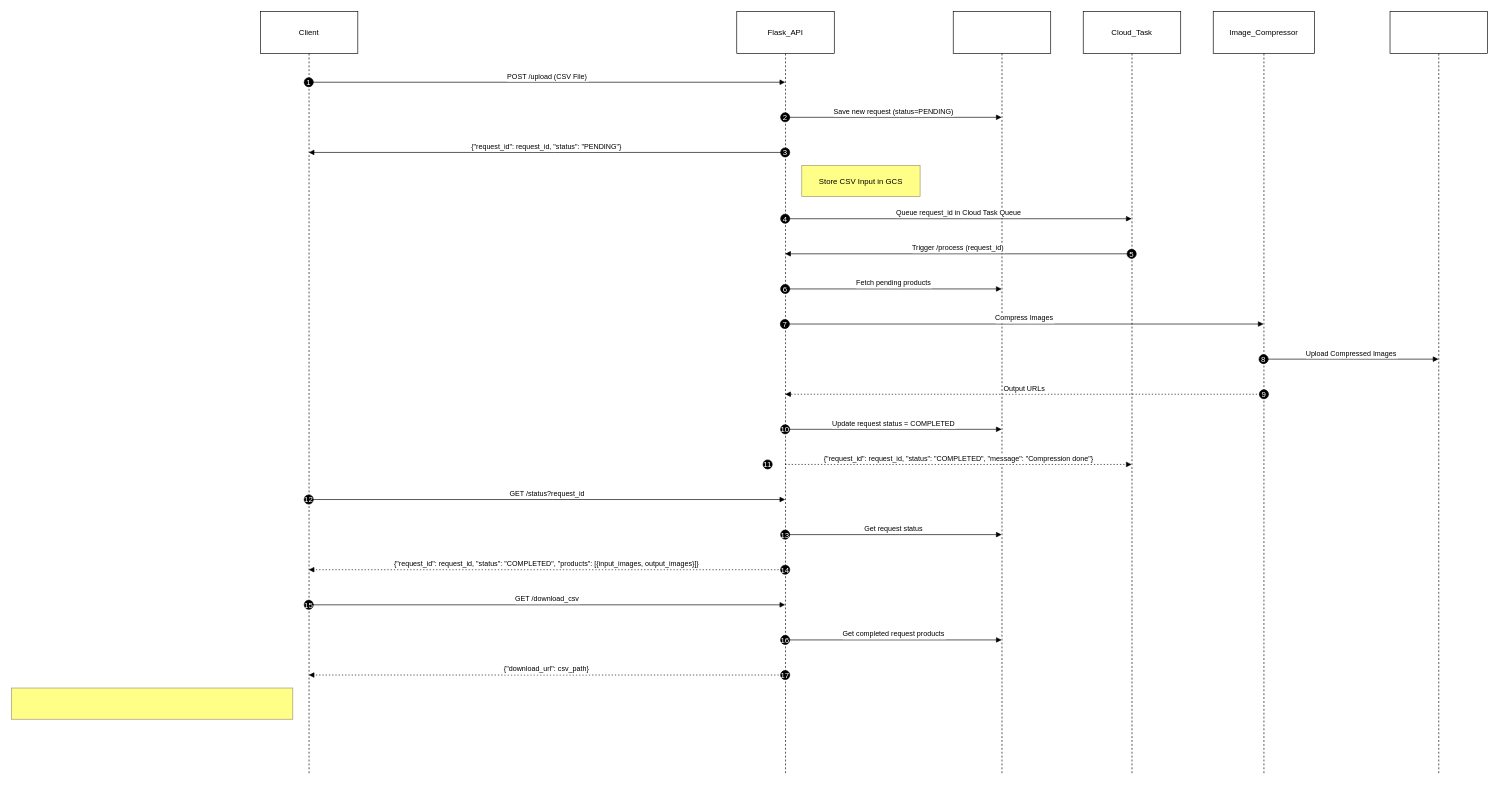
This 1499x786 diagram has some shape labels left out. The box of each missing label's shape, as (x1, y1, x2, y2) in pixels:
Database: (953, 11, 1051, 774)
Download CSV containing Input URLs & Compressed URLs: (11, 687, 293, 719)
GCS: (1389, 11, 1488, 774)
